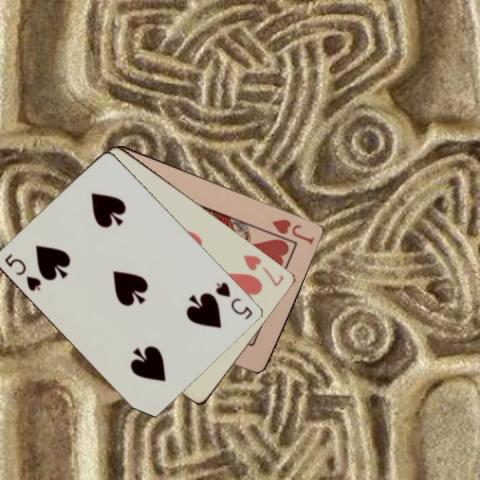5s: (212, 279, 254, 321), (2, 251, 43, 292)
7h: (240, 251, 286, 288)
Jh: (269, 216, 316, 246)
